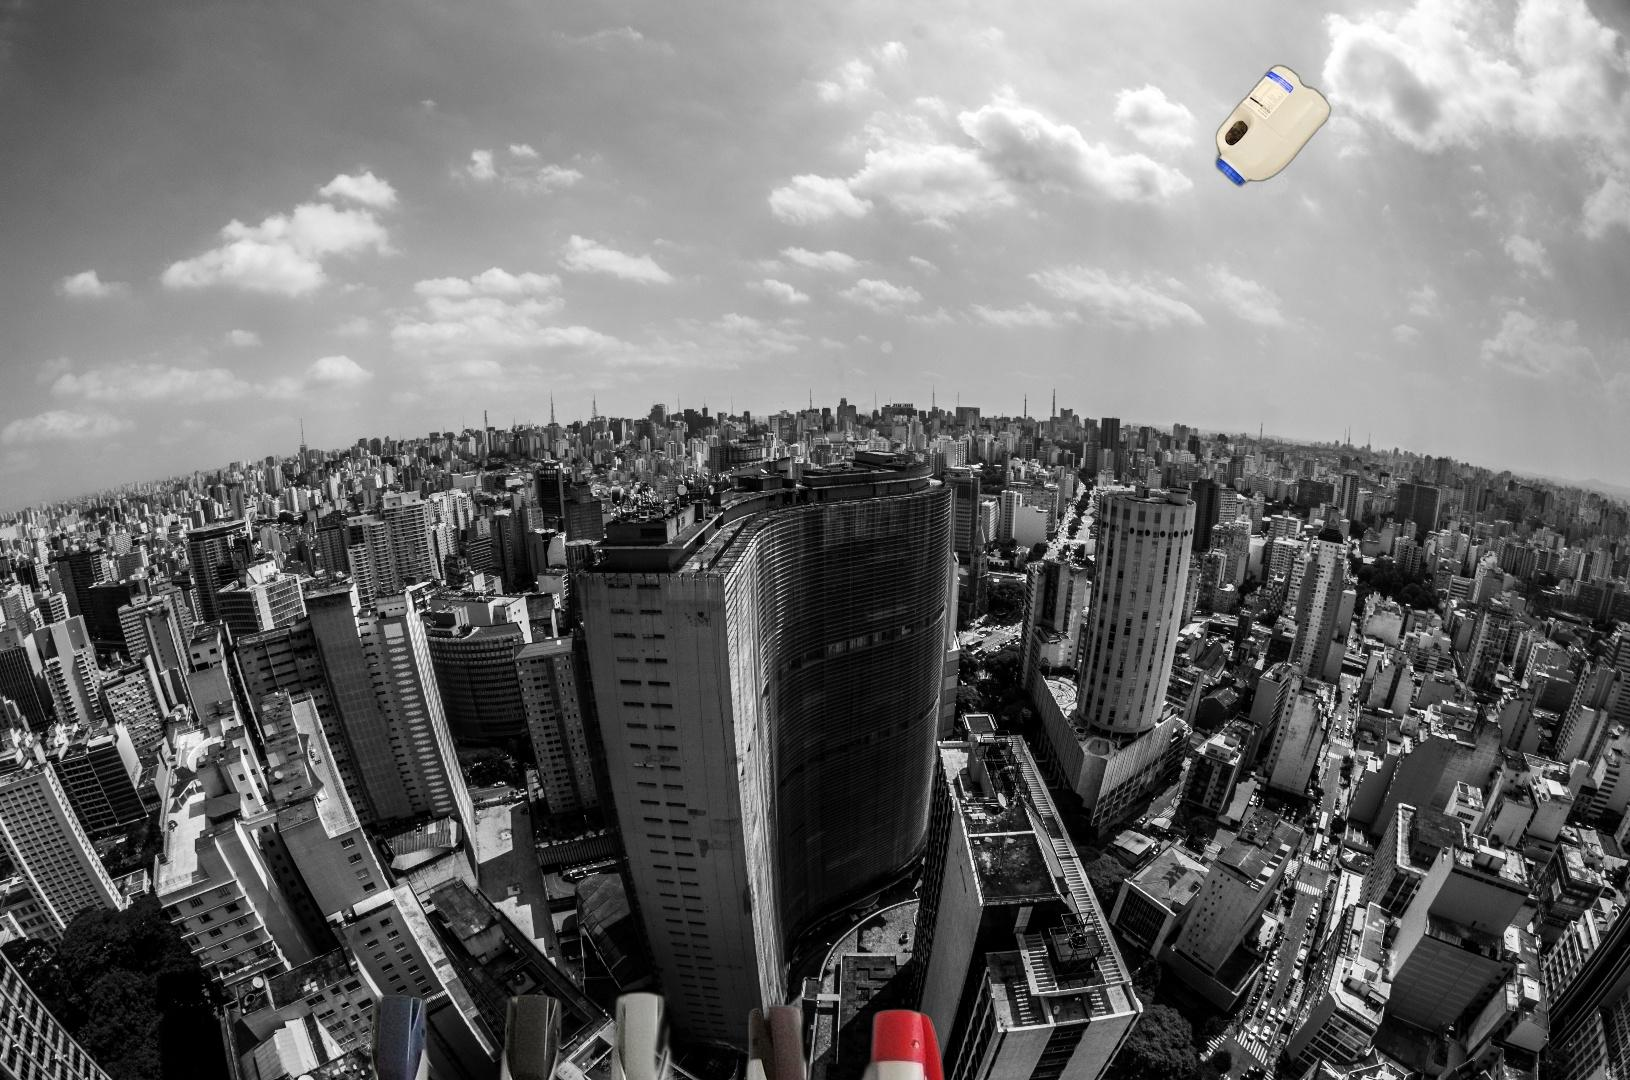penholder: (360, 987, 953, 1080)
plastic-bottles: (1211, 59, 1464, 325)
